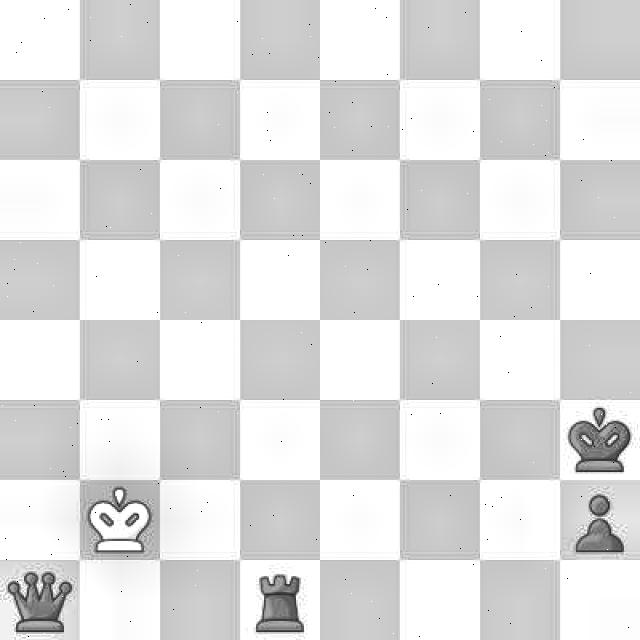black king: (564, 402, 638, 472)
black pawn: (560, 486, 637, 558)
black queen: (3, 565, 77, 640)
black rook: (242, 564, 316, 636)
white king: (83, 480, 157, 558)
